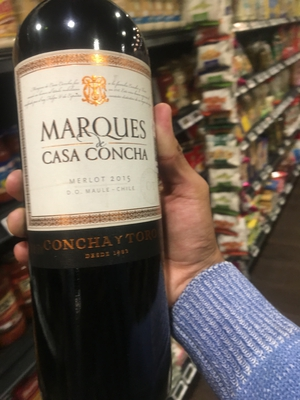marques de casa concha merlot: (12, 4, 186, 398)
